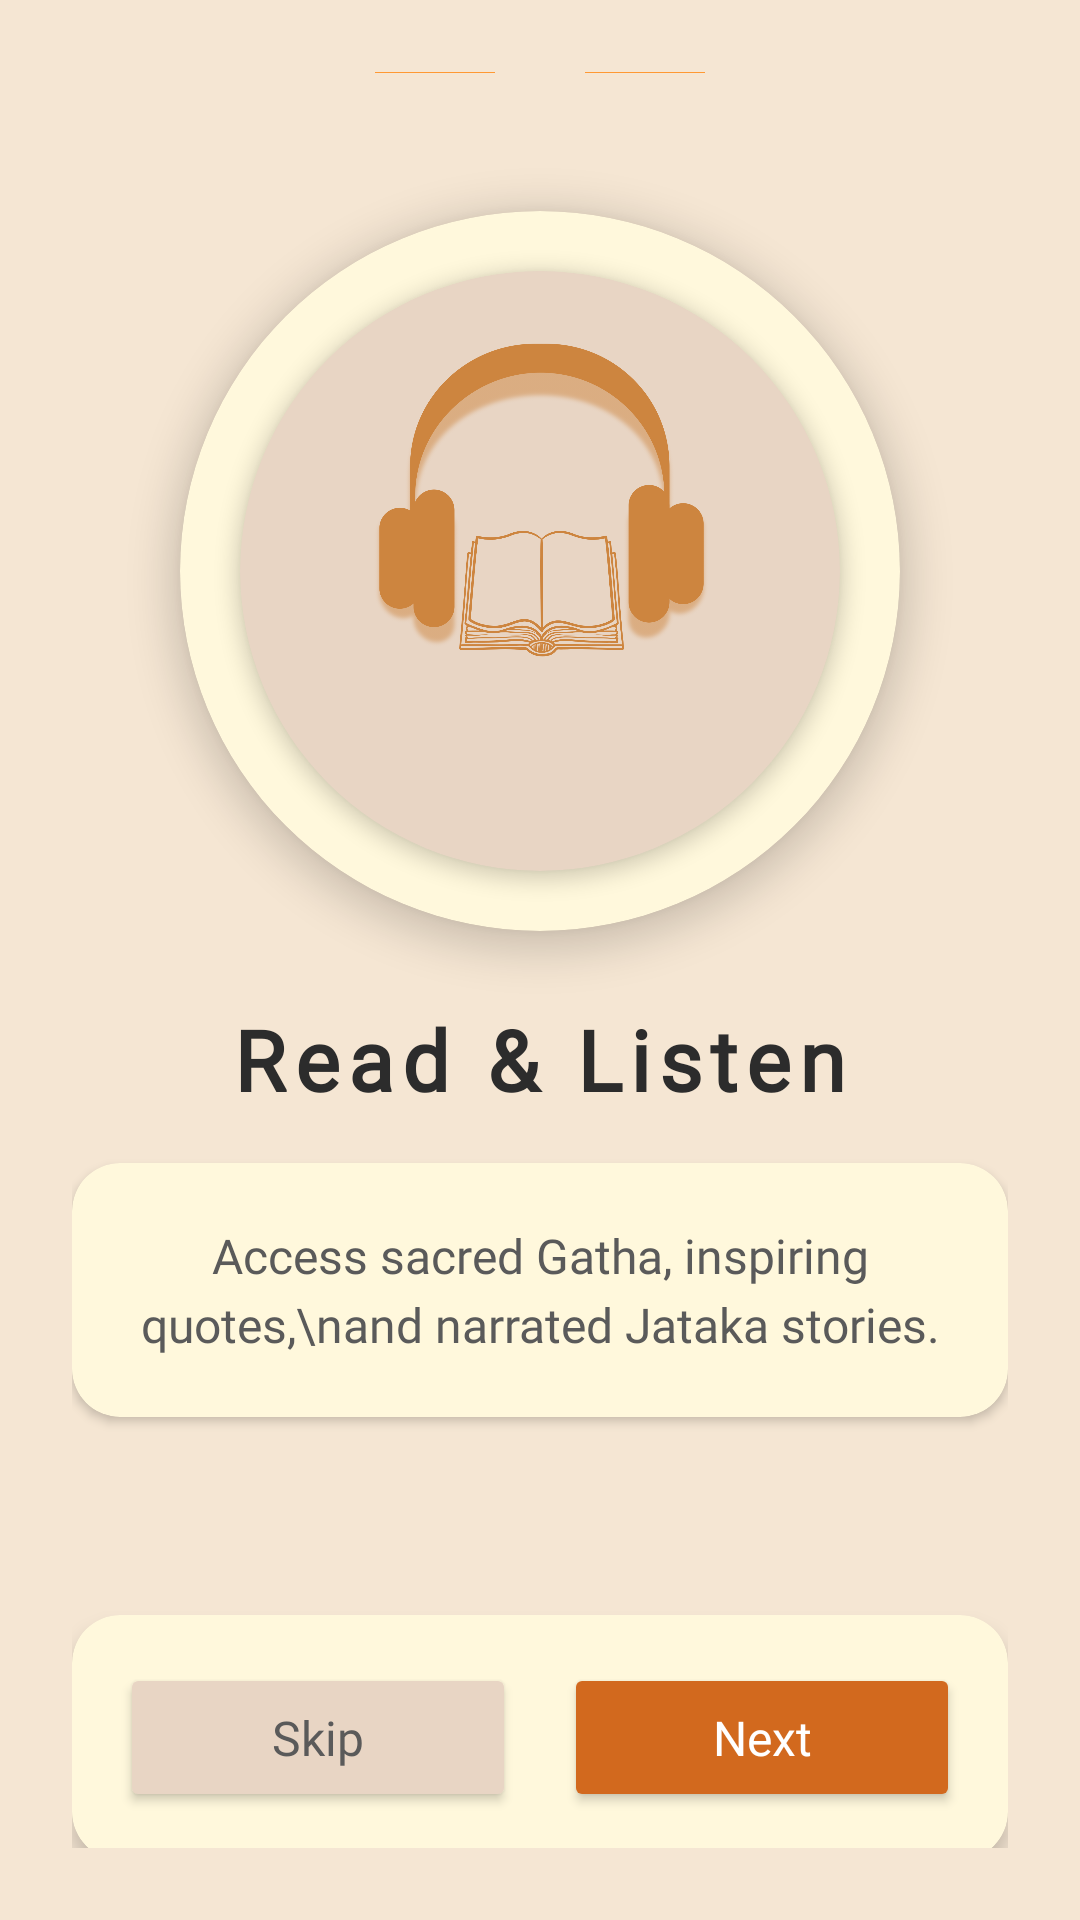

Named icons in this screenshot (1080x1920) and their centers, (x=x, y=y):
Listen icon: (x=541, y=500)
